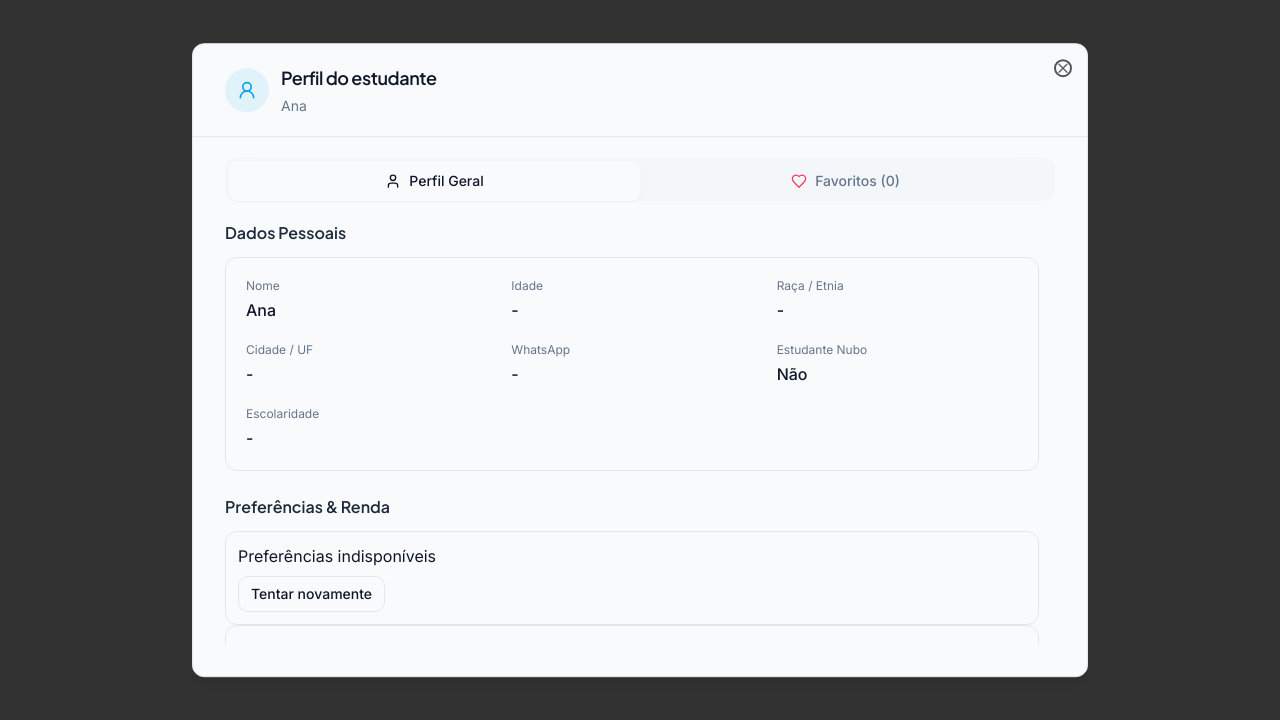
Test: preserves profile and its tabs when preferences fail, with retry
Expected: the text "Ana" below "Perfil do estudante" is shown, x1=281 y1=97 x2=307 y2=114
Expected: the number of tabs is 2, x1=229 y1=161 x2=640 y2=201; x1=640 y1=161 x2=1051 y2=201
Click the button "Tentar novamente". click: (312, 594)
box: x1=238 y1=576 x2=385 y2=612
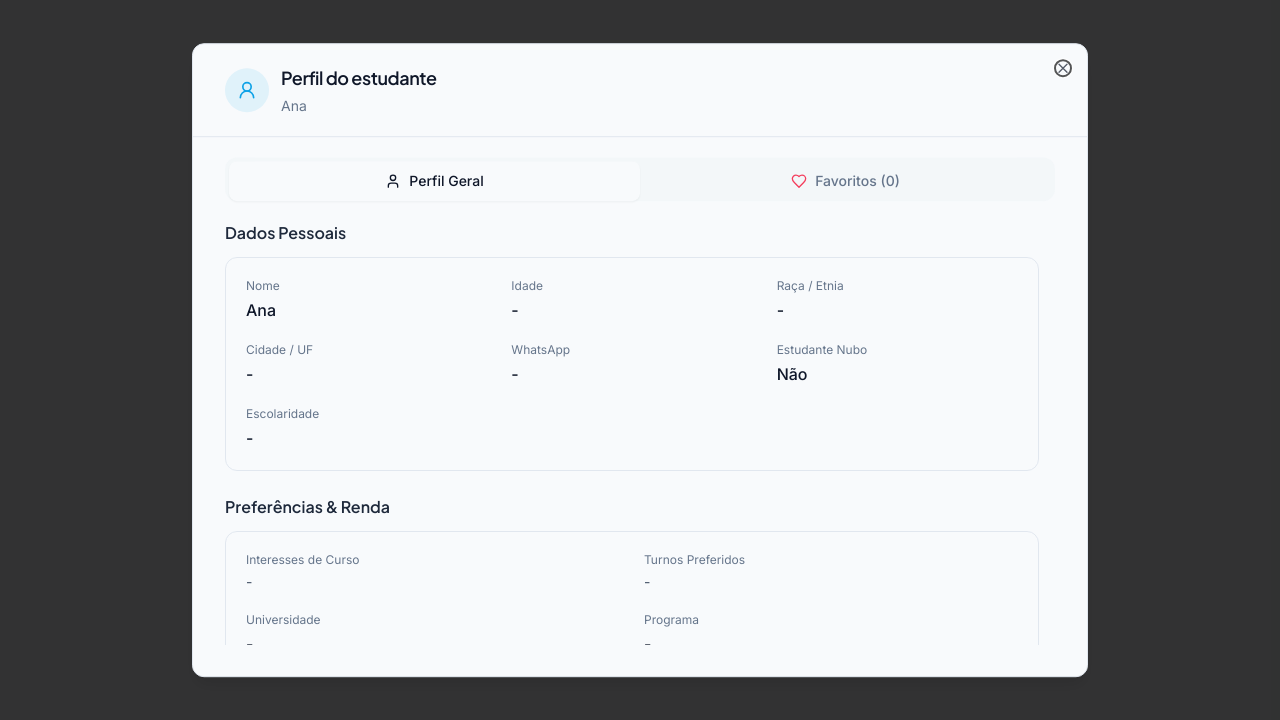
Expected: the text "Ana" below "Perfil do estudante" is shown, x1=281 y1=97 x2=307 y2=114
Now the message "Preferências indisponíveis Tentar novamente" is gone
